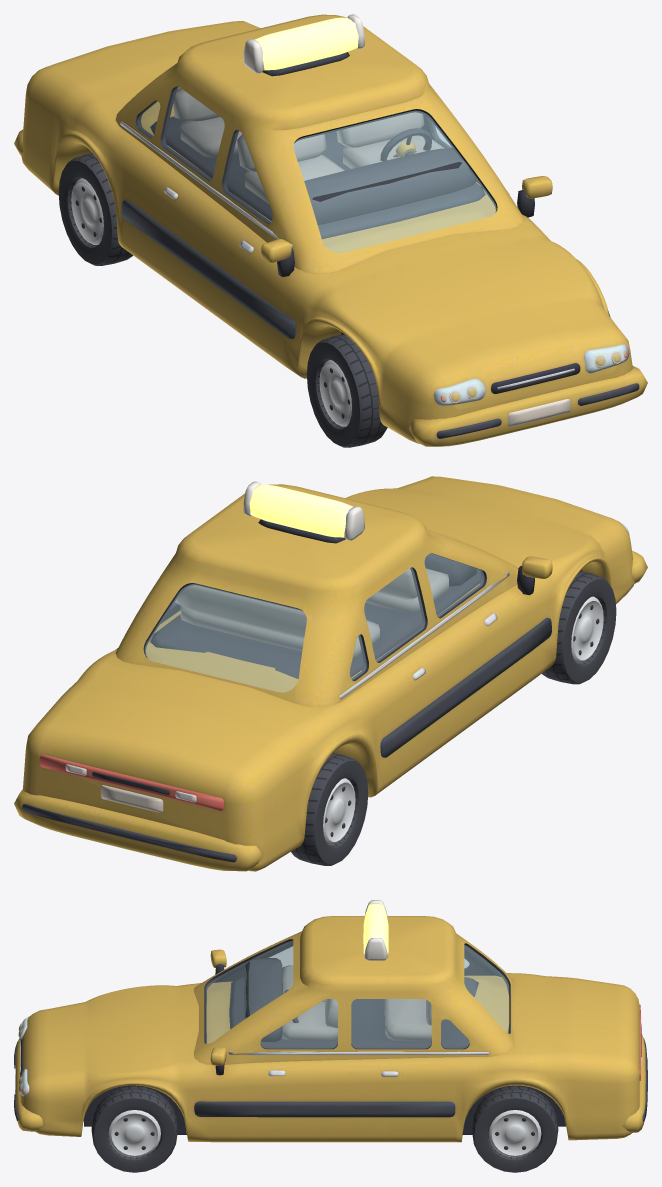
Rendered from 1990s-taxi.glb.
3 views of the same model, one above another, from view 1: azimuth 30°, elevation 25°; view 2: azimuth 150°, elevation 25°; view 3: azimuth 270°, elevation 25° (orthographic). The views are drawn at different scales.
Visible parts, largest first — view 1: 1990s-taxi_body, 1990s-taxi_windows, 1990s-taxi_wheel_fr, 1990s-taxi_wheel_rr, 1990s-taxi_roof_sign; view 2: 1990s-taxi_body, 1990s-taxi_windows, 1990s-taxi_wheel_rr, 1990s-taxi_wheel_fr, 1990s-taxi_roof_sign; view 3: 1990s-taxi_body, 1990s-taxi_windows, 1990s-taxi_wheel_fl, 1990s-taxi_wheel_rl, 1990s-taxi_roof_sign.
Boxes of the visible parts, x1,y1,x2,y2 form: 1990s-taxi_body: [14, 14, 647, 446]; 1990s-taxi_windows: [138, 86, 496, 252]; 1990s-taxi_wheel_fr: [307, 334, 387, 447]; 1990s-taxi_wheel_rr: [58, 153, 132, 265]; 1990s-taxi_roof_sign: [243, 14, 364, 76]; 1990s-taxi_body: [14, 476, 647, 871]; 1990s-taxi_windows: [145, 553, 484, 692]; 1990s-taxi_wheel_rr: [291, 753, 368, 865]; 1990s-taxi_wheel_fr: [541, 571, 616, 684]; 1990s-taxi_roof_sign: [243, 481, 364, 543]; 1990s-taxi_body: [14, 916, 647, 1142]; 1990s-taxi_windows: [206, 941, 508, 1048]; 1990s-taxi_wheel_fl: [91, 1086, 177, 1172]; 1990s-taxi_wheel_rl: [472, 1086, 558, 1172]; 1990s-taxi_roof_sign: [363, 900, 388, 960].
Size of the model in its own units: 1.94 by 1.75 by 4.83.
21 materials, 5 textured.
